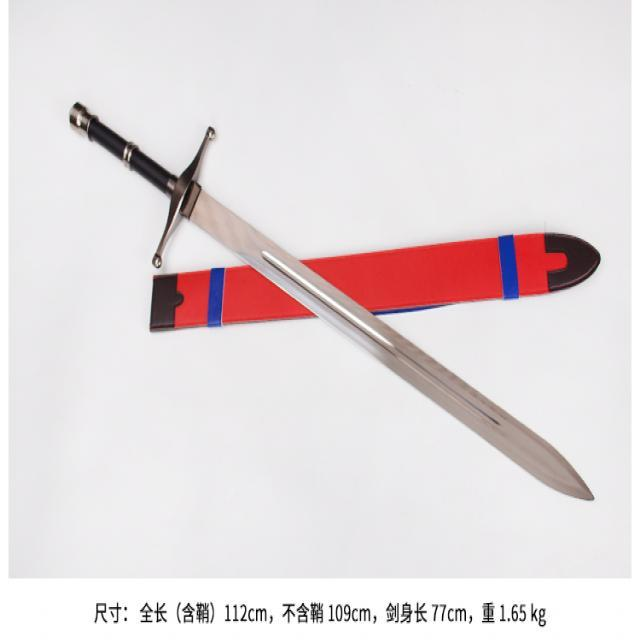long sword: (66, 88, 600, 506)
